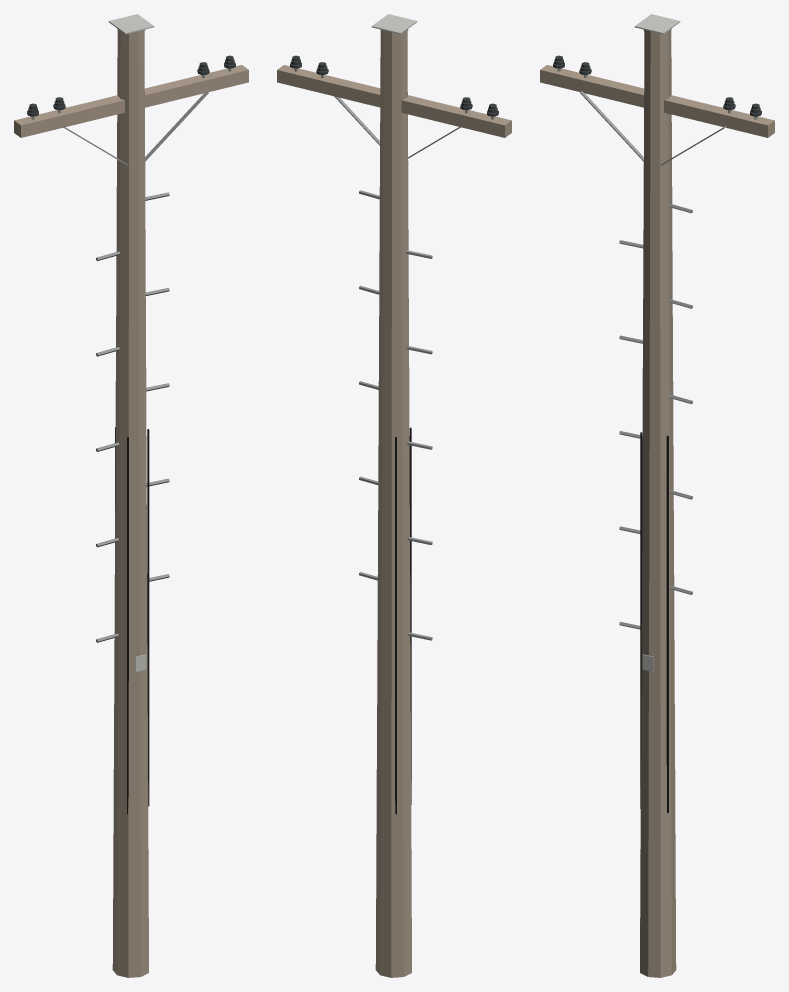
File: pole.glb
The picture shows the model from 3 angles, left to right: view 1: azimuth 30°, elevation 25°; view 2: azimuth 150°, elevation 25°; view 3: azimuth 330°, elevation 25°; orthographic projection.
Visible parts, largest first — view 1: Pole; view 2: Pole; view 3: Pole.
Boxes of the visible parts, bbox=[...] form: Pole: bbox=[14, 14, 248, 977]; Pole: bbox=[277, 14, 511, 977]; Pole: bbox=[540, 14, 774, 977].
Bounding box in the file's own units: 1.9 × 7.54 × 0.2649.
